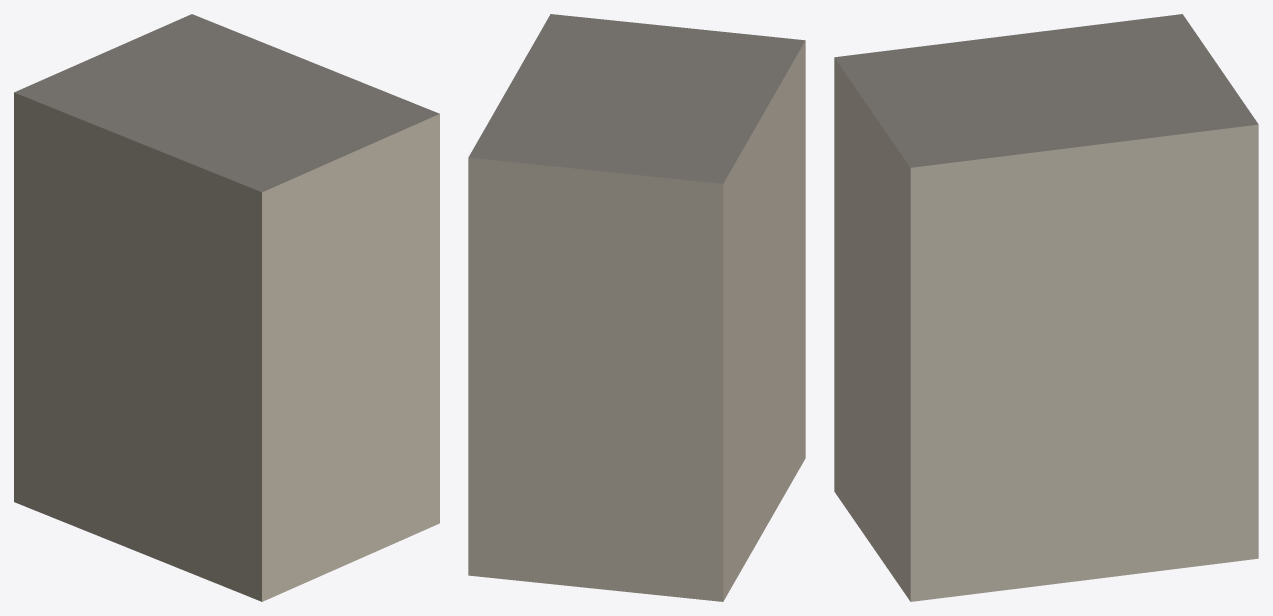
3 views of the same model, side by side, from view 1: azimuth 30°, elevation 25°; view 2: azimuth 150°, elevation 25°; view 3: azimuth 270°, elevation 25° (orthographic). The views are drawn at different scales.
Visible parts, largest first — view 1: HP-w446934333; view 2: HP-w446934333; view 3: HP-w446934333.
Part boxes in pixels (box(x1,y1,x2,y2)): HP-w446934333: box(14, 14, 439, 601); HP-w446934333: box(468, 14, 805, 601); HP-w446934333: box(834, 14, 1258, 601).
Bounding box in the file's own units: 13.68 × 18 × 15.95.
